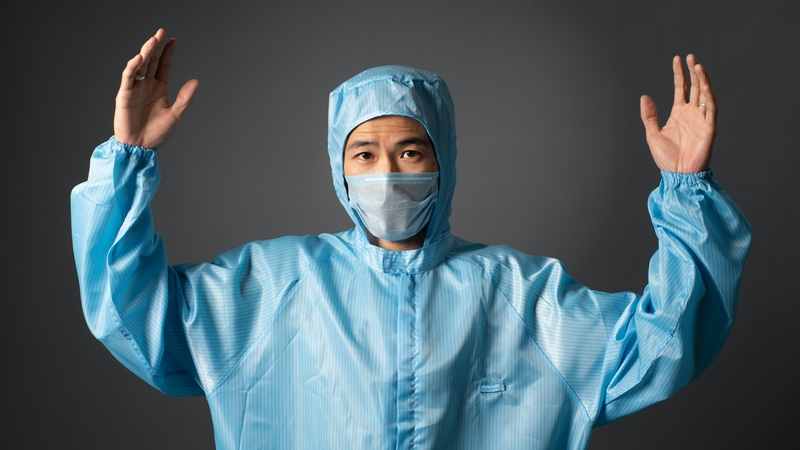hand: (110, 26, 202, 153), (638, 52, 720, 182)
